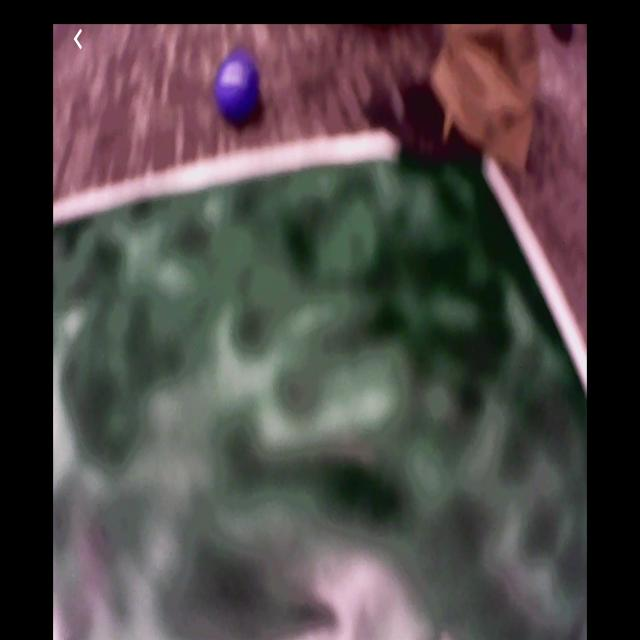ball: (215, 58, 260, 121)
